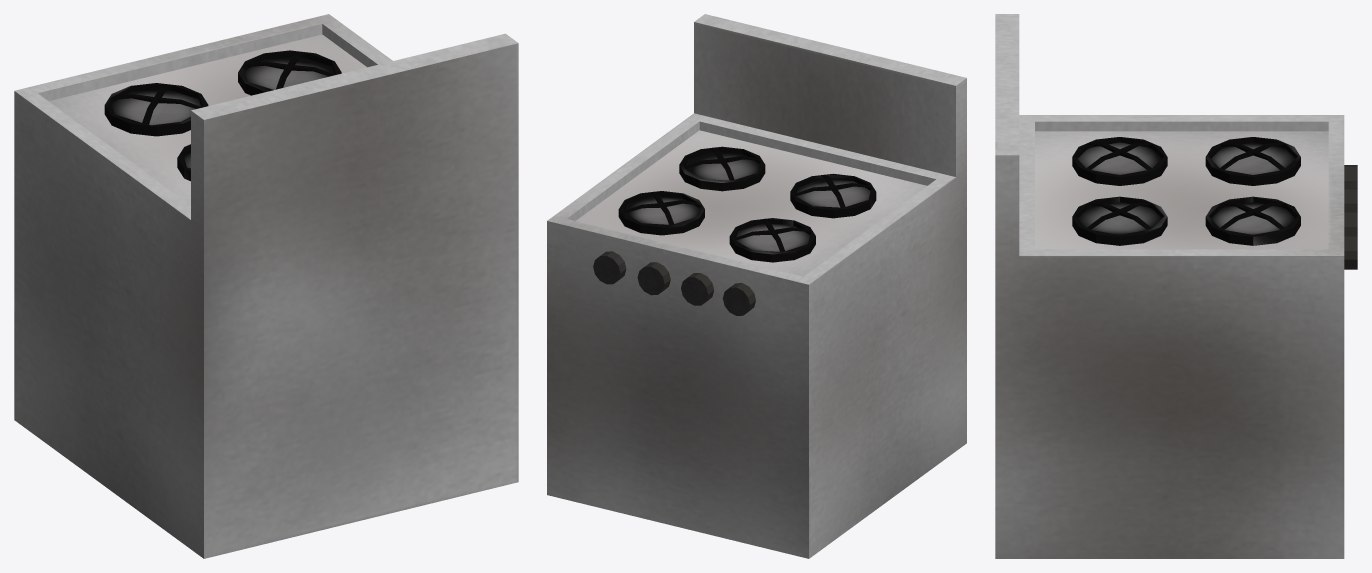
The model's file is v2Stove.fbx.
3 views of the same model, side by side, from view 1: azimuth 30°, elevation 25°; view 2: azimuth 150°, elevation 25°; view 3: azimuth 270°, elevation 25° (orthographic). The views are drawn at different scales.
Parts seen in each view (by area): view 1: V2Stove; view 2: V2Stove; view 3: V2Stove.
Boxes of the visible parts, box(x1,y1,x2,y2) form: V2Stove: box(14, 14, 518, 558); V2Stove: box(547, 14, 966, 558); V2Stove: box(995, 14, 1357, 558).
Size of the model in its own units: 200 by 267 by 217.
